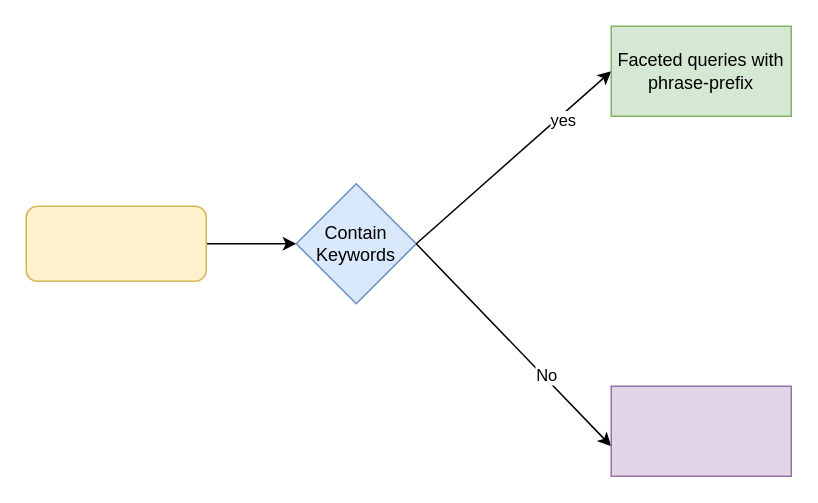
Image size: 818x503. Some labels were removed from this diagram. The centre of each missing label's shape, as x and y in pixels:
Faceted queries with cross fields: (x=700, y=430)
Search Phrase: (x=115, y=243)
